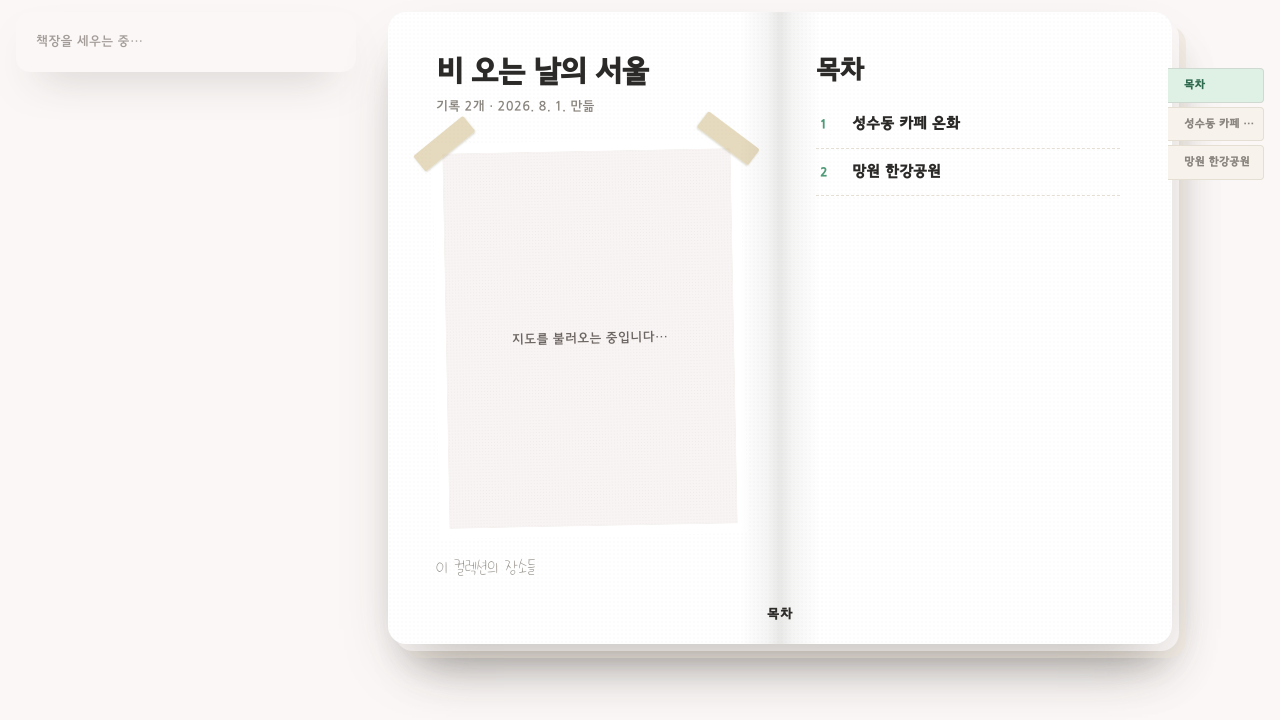
CollectionDetailView — 펼침면 타인 배치(418) › 목차에서만 컬렉션 장소 안내 문구를 보여 준다
Click the button "성수동 카페 온화" at (1216, 124), box left=1168, top=106, right=1264, bottom=141
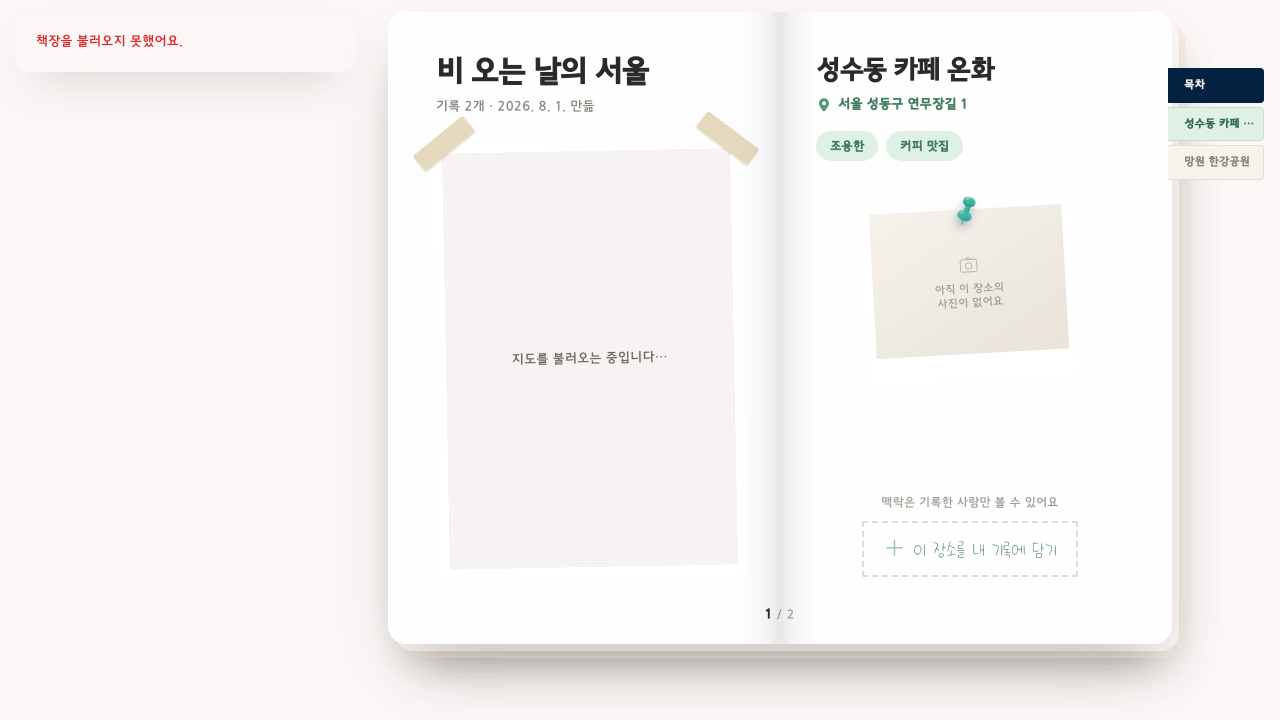
Expected: the text "이 컬렉션의 장소들" is gone
Click the button "망원 한강공원" at (1216, 162), box left=1168, top=145, right=1264, bottom=180
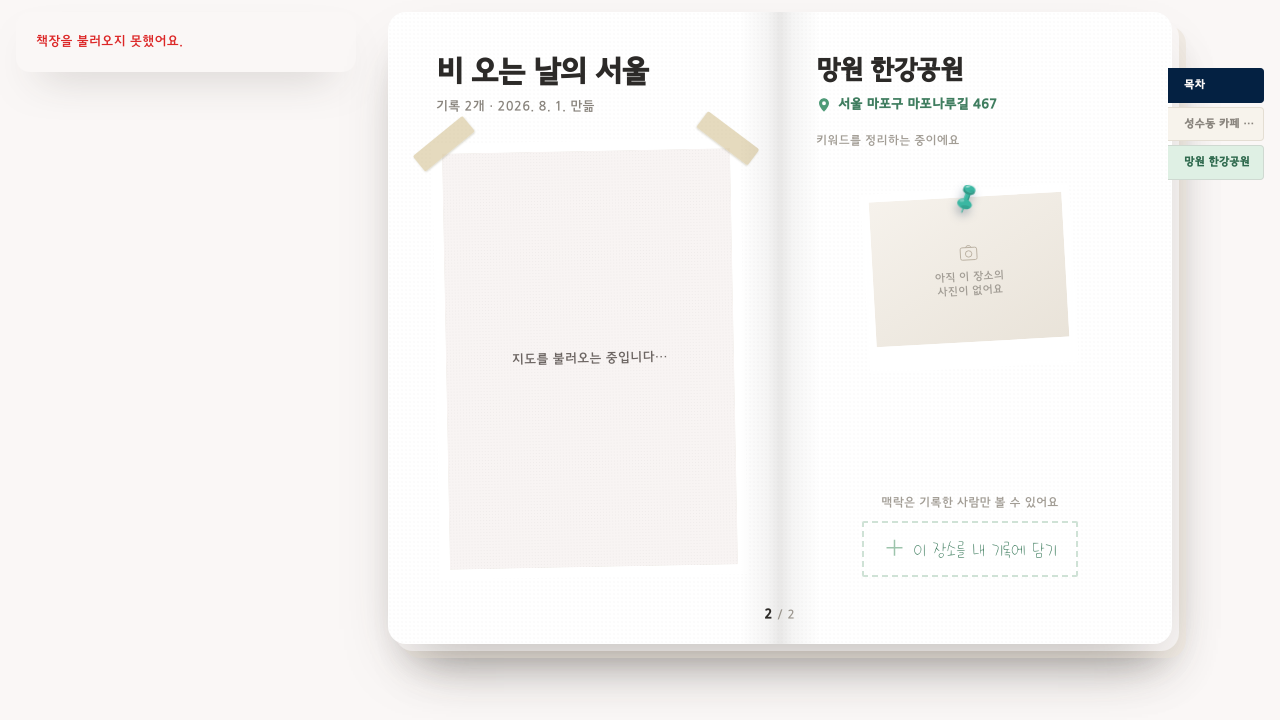
Expected: the text "이 컬렉션의 장소들" is not shown
Click the button "목차" at (1216, 85), box left=1168, top=68, right=1264, bottom=102
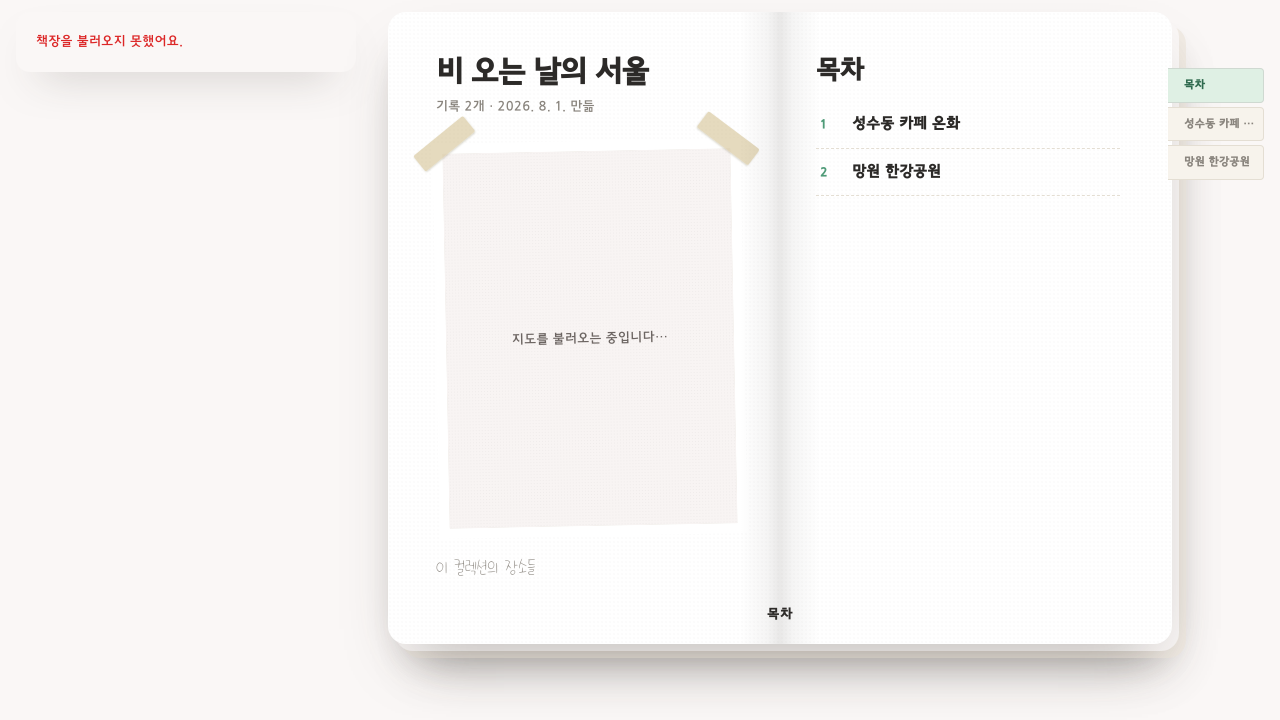
Expected: the text "이 컬렉션의 장소들" is shown, left=436, top=556, right=536, bottom=576
